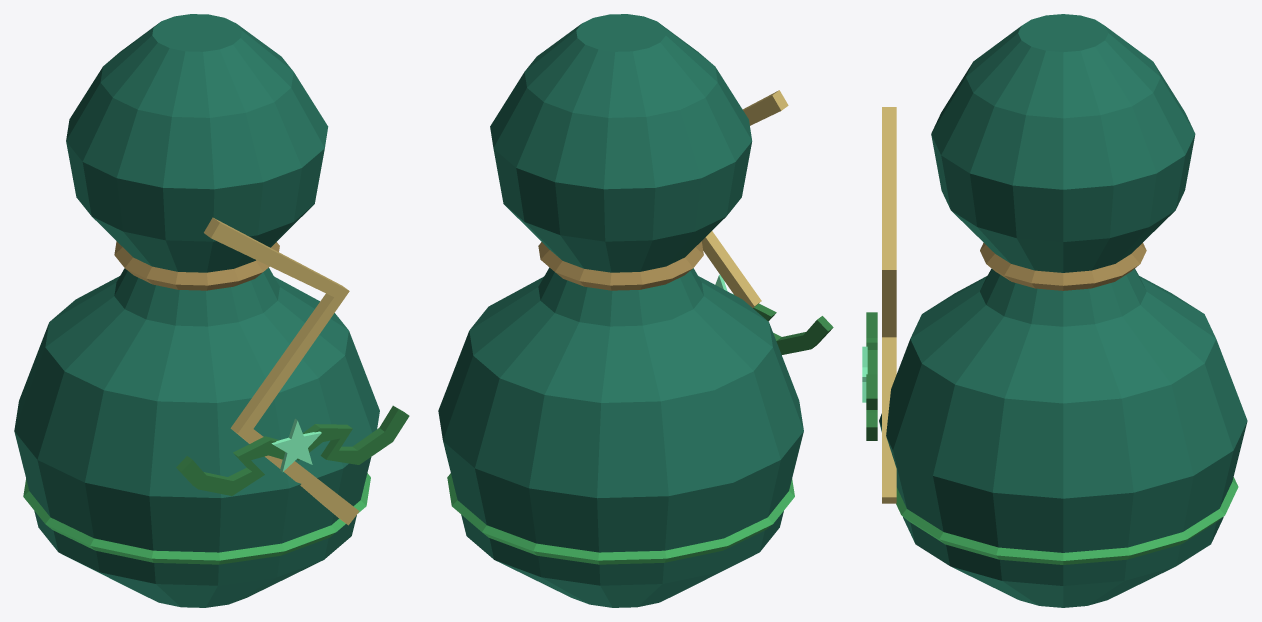
File: jade_spirit_gourd.obj
3 renders of one model, left to right at view 1: azimuth 30°, elevation 25°; view 2: azimuth 150°, elevation 25°; view 3: azimuth 270°, elevation 25°, orthographic.
Parts seen in each view (by area): view 1: jade_gourd, jade_vine, jade_lower_band, jade_waist, jade_vine_edge, jade_cloud_left, jade_cloud_right, jade_cloud_right_edge, spirit_glint, jade_cloud_left_edge; view 2: jade_gourd, jade_lower_band, jade_waist, jade_vine, jade_vine_edge, jade_cloud_left; view 3: jade_gourd, jade_vine_edge, jade_lower_band, jade_waist, jade_cloud_right_edge, jade_cloud_left_edge.
Part boxes in pixels (x1,y1,x2,y2): jade_gourd: [14, 14, 379, 607]; jade_vine: [211, 223, 359, 525]; jade_lower_band: [23, 473, 370, 564]; jade_waist: [114, 241, 279, 290]; jade_vine_edge: [204, 217, 348, 523]; jade_cloud_left: [181, 440, 285, 495]; jade_cloud_right: [297, 409, 409, 464]; jade_cloud_right_edge: [297, 405, 407, 460]; spirit_glint: [273, 421, 321, 471]; jade_cloud_left_edge: [176, 436, 279, 488]; jade_gourd: [438, 14, 803, 607]; jade_lower_band: [447, 473, 794, 564]; jade_waist: [538, 241, 703, 290]; jade_vine: [702, 95, 780, 307]; jade_vine_edge: [705, 90, 788, 307]; jade_cloud_left: [753, 308, 827, 354]; jade_gourd: [879, 14, 1247, 607]; jade_vine_edge: [882, 107, 896, 503]; jade_lower_band: [896, 477, 1238, 564]; jade_waist: [980, 242, 1146, 290]; jade_cloud_right_edge: [866, 374, 877, 440]; jade_cloud_left_edge: [866, 312, 877, 374].
Size of the model in its own units: 1.06 by 1.74 by 1.11.
